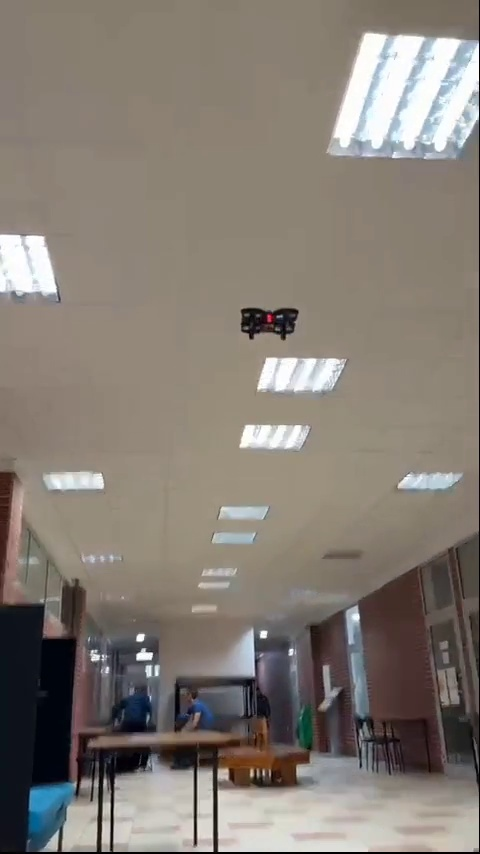drone: (239, 306, 298, 342)
no vest: (107, 677, 158, 731), (182, 686, 221, 731)
